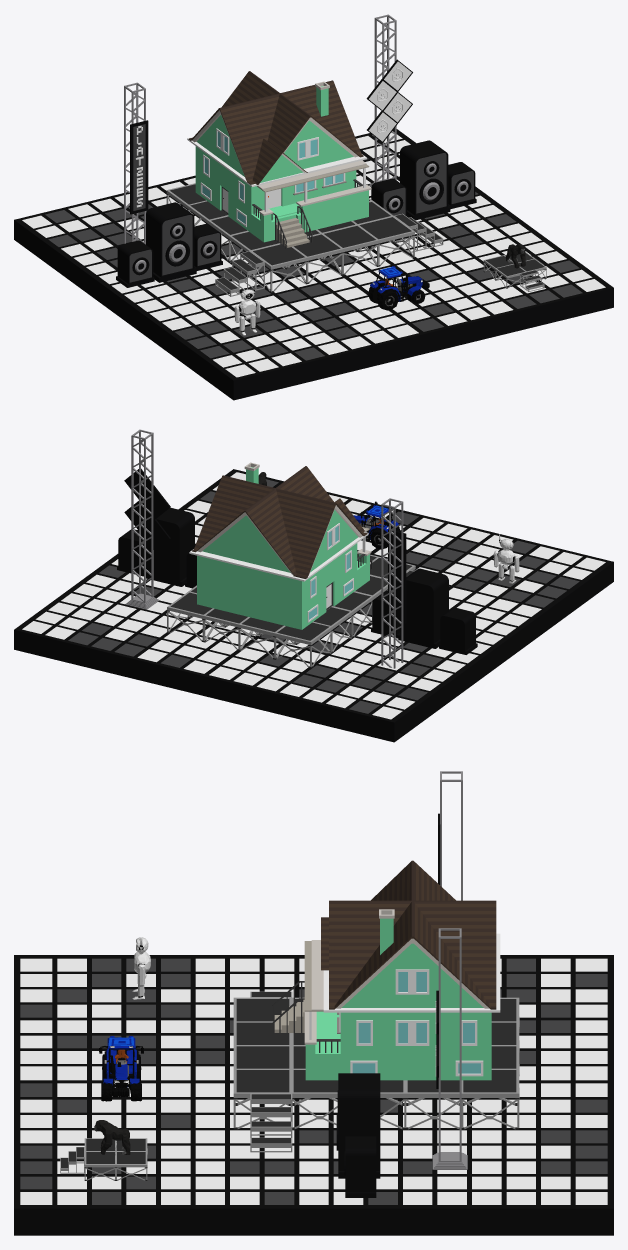
3 views of the same model, one above another, from view 1: azimuth 30°, elevation 25°; view 2: azimuth 150°, elevation 25°; view 3: azimuth 270°, elevation 25° (orthographic). The views are drawn at different scales.
Parts seen in each view (by area): view 1: Cube.008, Cube.352, VEHICLES_TRACTOR, OBJRANDOM_PLATZEEBOT; view 2: Cube.008, Cube.352, VEHICLES_TRACTOR, OBJRANDOM_PLATZEEBOT; view 3: Cube.008, Cube.352, VEHICLES_TRACTOR, ANIMAL_GORILA, OBJRANDOM_PLATZEEBOT.
Boxes of the visible parts, bbox=[...] form: Cube.008: bbox=[14, 14, 613, 400]; Cube.352: bbox=[187, 71, 371, 248]; VEHICLES_TRACTOR: bbox=[368, 262, 429, 310]; OBJRANDOM_PLATZEEBOT: bbox=[234, 284, 260, 335]; Cube.008: bbox=[14, 429, 613, 742]; Cube.352: bbox=[189, 462, 372, 629]; VEHICLES_TRACTOR: bbox=[353, 501, 400, 549]; OBJRANDOM_PLATZEEBOT: bbox=[493, 534, 519, 583]; Cube.008: bbox=[14, 771, 613, 1235]; Cube.352: bbox=[272, 860, 500, 1080]; VEHICLES_TRACTOR: bbox=[99, 1036, 143, 1101]; ANIMAL_GORILA: bbox=[94, 1120, 130, 1154]; OBJRANDOM_PLATZEEBOT: bbox=[132, 937, 150, 999].
Size of the model in its own units: 4000 by 1995 by 4000.
Materials: 36 (2 with a texture image).
